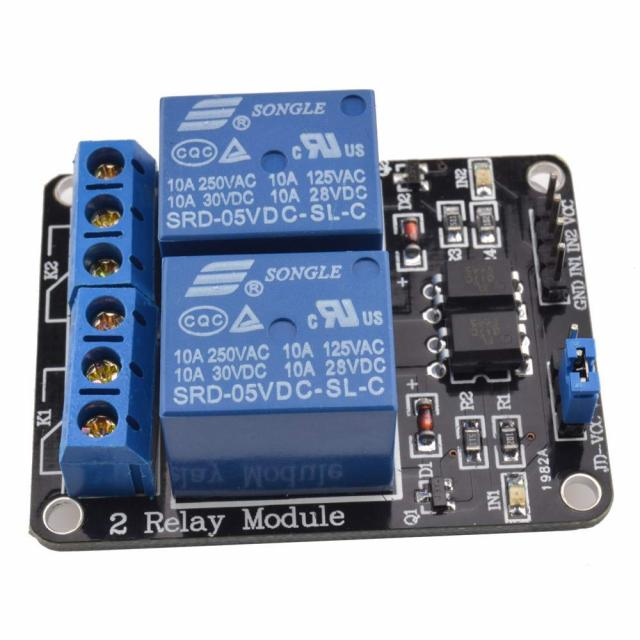4439: (391, 154, 430, 198), (423, 469, 460, 514)
IC: (439, 306, 533, 378), (436, 259, 521, 309)
LED: (506, 472, 528, 520), (474, 158, 496, 200)
connector -5v-: (68, 138, 156, 492), (530, 175, 579, 309), (552, 329, 608, 418)
diode -D1-: (416, 396, 444, 445), (400, 215, 426, 261)
relay: (158, 254, 396, 482), (157, 91, 384, 240)
resistor IR1: (439, 202, 461, 248), (477, 201, 502, 241), (499, 416, 521, 459), (464, 420, 484, 458)
